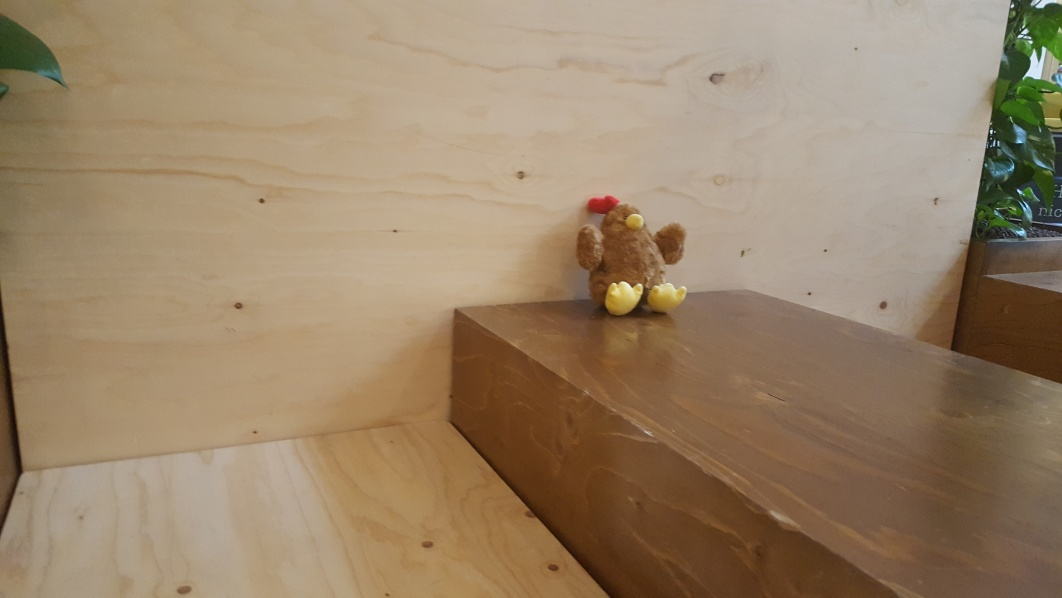chicken: (569, 190, 695, 319)
